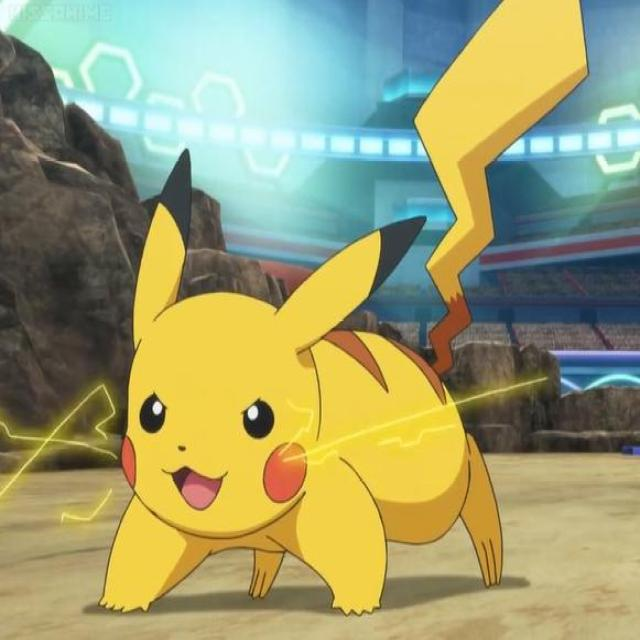pikachu: (96, 0, 589, 617)
